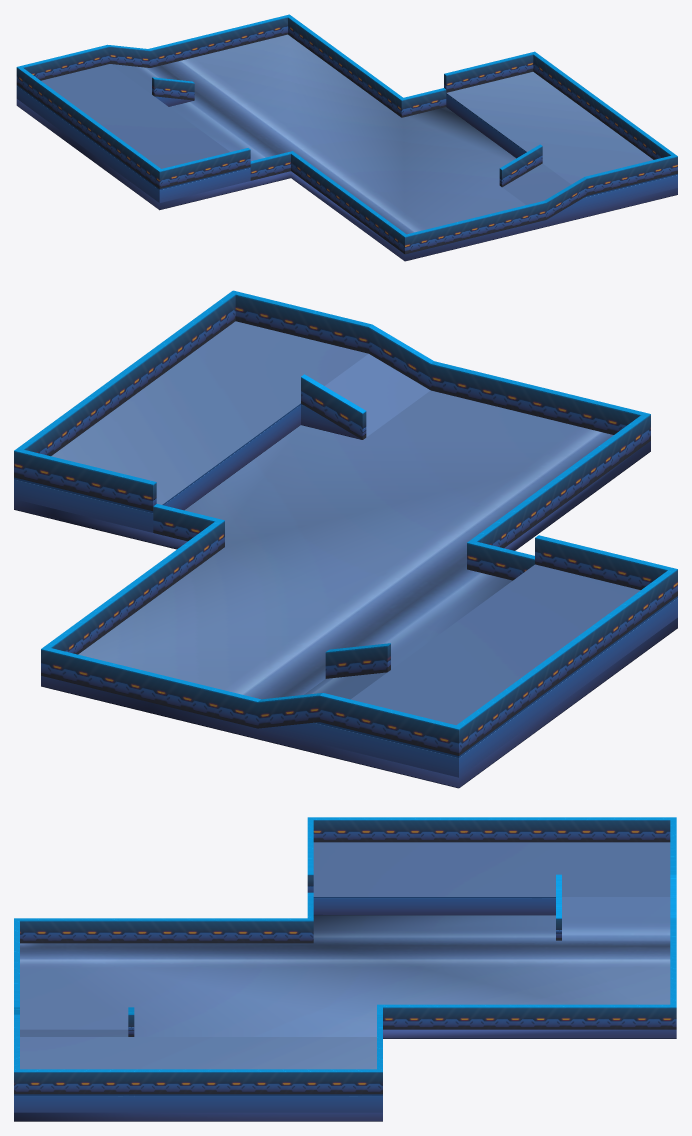
The model's file is Battle_Stage 15.fbx.
3 views of the same model, one above another, from view 1: azimuth 30°, elevation 25°; view 2: azimuth 150°, elevation 25°; view 3: azimuth 270°, elevation 25° (orthographic). The views are drawn at different scales.
Visible parts, largest first — view 1: DB_Platform_Cube__1_, DB_Platform_Cube__1_.001; view 2: DB_Platform_Cube__1_, DB_Platform_Cube__1_.001; view 3: DB_Platform_Cube__1_, DB_Platform_Cube__1_.001.
Boxes of the visible parts, x1,y1,x2,y2 form: DB_Platform_Cube__1_: (16, 34, 677, 261); DB_Platform_Cube__1_.001: (16, 14, 677, 254); DB_Platform_Cube__1_: (14, 321, 677, 788); DB_Platform_Cube__1_.001: (14, 290, 677, 755); DB_Platform_Cube__1_: (14, 842, 676, 1121); DB_Platform_Cube__1_.001: (14, 817, 676, 1094).
Size of the model in its own units: 6029 by 547 by 6615.
